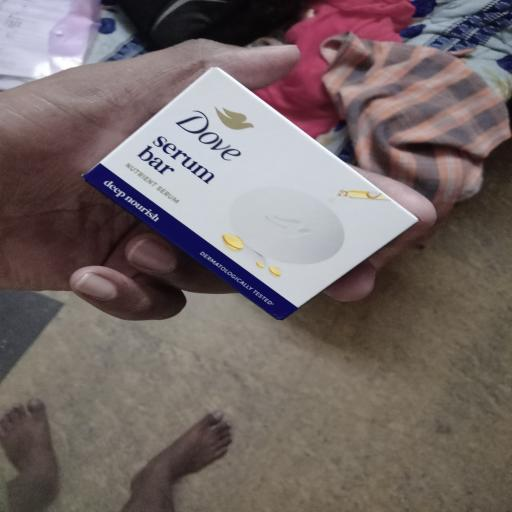Dove`1: (77, 40, 422, 356)
